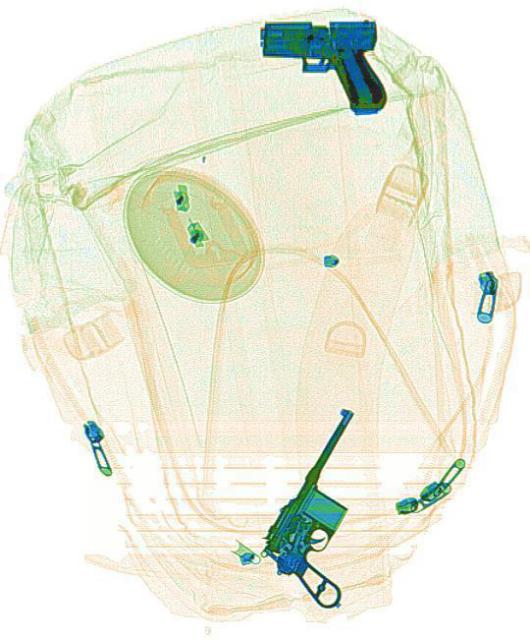Gun: (248, 404, 419, 614), (256, 18, 386, 112)
